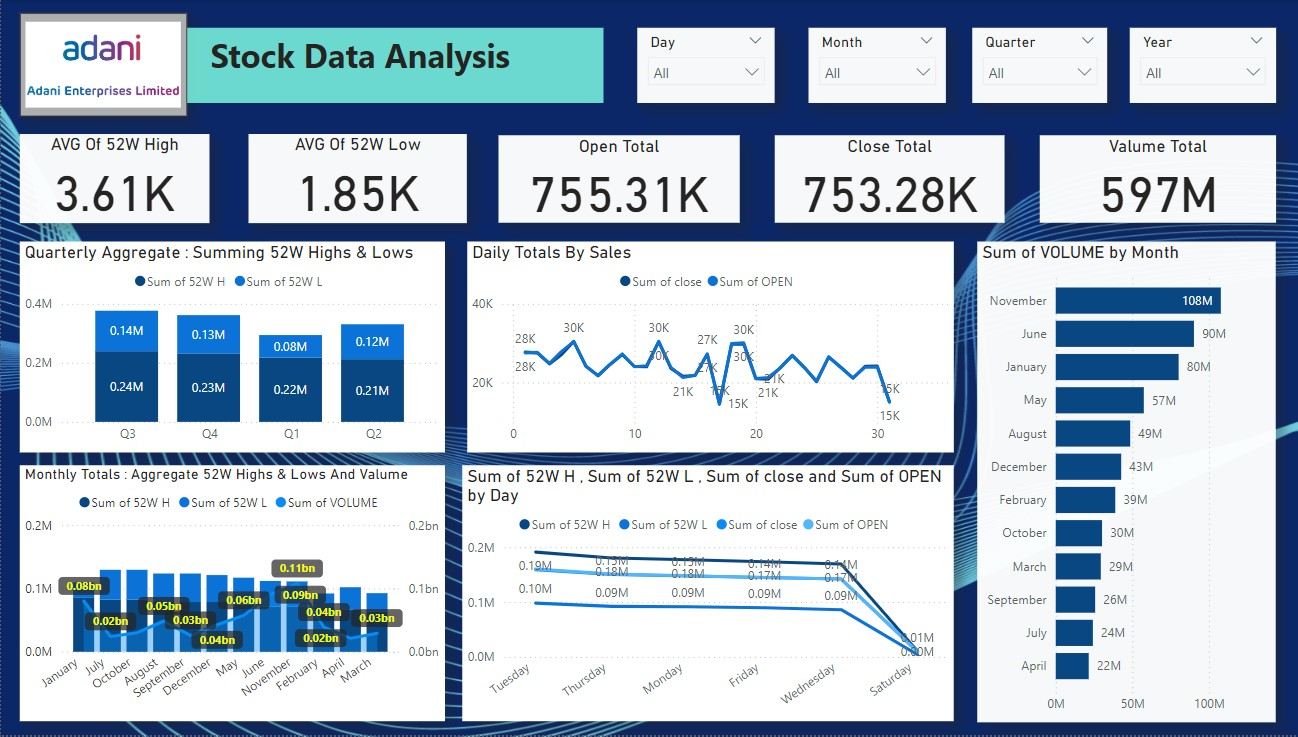

What the dashboard file says about the page in this screenshot:
{"tool":"powerbi","page":{"name":"Page 1","canvas":[1280,720],"ordinal":0},"visuals":[{"type":"slicer","fields":{"Values":["Quote-Equity-ADANIENT-EQ-01-01-2024-to-01-01-2025.Day"]},"box":[622.4,28.1,134.5,73.4],"z":0},{"type":"slicer","fields":{"Values":["Quote-Equity-ADANIENT-EQ-01-01-2024-to-01-01-2025.Year"]},"box":[1104.2,28.1,143.1,73.4],"z":1000},{"type":"slicer","fields":{"Values":["Quote-Equity-ADANIENT-EQ-01-01-2024-to-01-01-2025.Quarter"]},"box":[950.1,28.1,132.1,73.4],"z":2000},{"type":"slicer","fields":{"Values":["Quote-Equity-ADANIENT-EQ-01-01-2024-to-01-01-2025.Month"]},"box":[789.9,28.1,134.5,73.4],"z":3000},{"type":"card","title":"AVG Of 52W High","fields":{"Values":["Avg(Quote-Equity-ADANIENT-EQ-01-01-2024-to-01-01-2025.52W H )"]},"box":[18.3,132.1,185.9,86.8],"z":4000},{"type":"card","title":"Close Total","fields":{"Values":["Sum(Quote-Equity-ADANIENT-EQ-01-01-2024-to-01-01-2025.close)"]},"box":[756.9,133.3,225,85.6],"z":5000},{"type":"card","title":"AVG Of 52W Low","fields":{"Values":["Avg(Quote-Equity-ADANIENT-EQ-01-01-2024-to-01-01-2025.52W L )"]},"box":[242.1,132.1,214,86.8],"z":6000},{"type":"card","title":"Valume Total","fields":{"Values":["Sum(Quote-Equity-ADANIENT-EQ-01-01-2024-to-01-01-2025.VOLUME )"]},"box":[1016.2,133.3,231.1,85.6],"z":7000},{"type":"card","title":"Open Total","fields":{"Values":["Sum(Quote-Equity-ADANIENT-EQ-01-01-2024-to-01-01-2025.OPEN )"]},"box":[486.7,133.3,236,85.6],"z":8000},{"type":"columnChart","title":" Quarterly Aggregate  : Summing 52W Highs & Lows","fields":{"Y":["Sum(Quote-Equity-ADANIENT-EQ-01-01-2024-to-01-01-2025.52W H )","Sum(Quote-Equity-ADANIENT-EQ-01-01-2024-to-01-01-2025.52W L )"],"Category":["Quote-Equity-ADANIENT-EQ-01-01-2024-to-01-01-2025.Quarter"]},"box":[18.3,237.2,415.8,206.7],"z":9000},{"type":"lineStackedColumnComboChart","title":"Monthly Totals :  Aggregate 52W Highs & Lows And Valume","fields":{"Y":["Sum(Quote-Equity-ADANIENT-EQ-01-01-2024-to-01-01-2025.52W H )","Sum(Quote-Equity-ADANIENT-EQ-01-01-2024-to-01-01-2025.52W L )"],"Category":["Quote-Equity-ADANIENT-EQ-01-01-2024-to-01-01-2025.Month"],"Y2":["Sum(Quote-Equity-ADANIENT-EQ-01-01-2024-to-01-01-2025.VOLUME )"]},"box":[18.3,456.1,415.8,250.7],"z":10000},{"type":"lineChart","title":"Daily Totals By Sales","fields":{"Category":["Quote-Equity-ADANIENT-EQ-01-01-2024-to-01-01-2025.Date .Variation.Date Hierarchy.Day"],"Y":["Sum(Quote-Equity-ADANIENT-EQ-01-01-2024-to-01-01-2025.close)","Sum(Quote-Equity-ADANIENT-EQ-01-01-2024-to-01-01-2025.OPEN )"]},"box":[456.1,237.2,475.7,206.7],"z":11000},{"type":"lineChart","fields":{"Y":["Sum(Quote-Equity-ADANIENT-EQ-01-01-2024-to-01-01-2025.52W H )","Sum(Quote-Equity-ADANIENT-EQ-01-01-2024-to-01-01-2025.52W L )","Sum(Quote-Equity-ADANIENT-EQ-01-01-2024-to-01-01-2025.close)","Sum(Quote-Equity-ADANIENT-EQ-01-01-2024-to-01-01-2025.OPEN )"],"Category":["Quote-Equity-ADANIENT-EQ-01-01-2024-to-01-01-2025.Day"]},"box":[451.2,456.1,480.6,250.7],"z":12000},{"type":"barChart","fields":{"Category":["Quote-Equity-ADANIENT-EQ-01-01-2024-to-01-01-2025.Month"],"Y":["Sum(Quote-Equity-ADANIENT-EQ-01-01-2024-to-01-01-2025.VOLUME )"]},"box":[955,237.2,292.3,470.8],"z":13000},{"type":"image","box":[18.3,13.5,163.9,101.5],"z":14000},{"type":"textbox","box":[182.2,28.1,407.2,73.4],"z":15000}]}

Visuals, with their boxes in screenshot pixels (x1, y1, x2, y2), scaled from the page's 1280x720 canvas onto the 1298x737 screenshot:
slicer - Quote-Equity-ADANIENT-EQ-01-01-2024-to-01-01-2025.Day: locate(631, 29, 768, 104)
slicer - Quote-Equity-ADANIENT-EQ-01-01-2024-to-01-01-2025.Year: locate(1120, 29, 1265, 104)
slicer - Quote-Equity-ADANIENT-EQ-01-01-2024-to-01-01-2025.Quarter: locate(963, 29, 1097, 104)
slicer - Quote-Equity-ADANIENT-EQ-01-01-2024-to-01-01-2025.Month: locate(801, 29, 937, 104)
"AVG Of 52W High" card: locate(19, 135, 207, 224)
"Close Total" card: locate(768, 136, 996, 224)
"AVG Of 52W Low" card: locate(246, 135, 463, 224)
"Valume Total" card: locate(1030, 136, 1265, 224)
"Open Total" card: locate(494, 136, 733, 224)
" Quarterly Aggregate  : Summing 52W Highs & Lows" columnChart: locate(19, 243, 440, 454)
"Monthly Totals :  Aggregate 52W Highs & Lows And Valume" lineStackedColumnComboChart: locate(19, 467, 440, 723)
"Daily Totals By Sales" lineChart: locate(463, 243, 945, 454)
lineChart - Sum(Quote-Equity-ADANIENT-EQ-01-01-2024-to-01-01-2025.52W H ) x Sum(Quote-Equity-ADANIENT-EQ-01-01-2024-to-01-01-2025.52W L ): locate(458, 467, 945, 723)
barChart - Quote-Equity-ADANIENT-EQ-01-01-2024-to-01-01-2025.Month x Sum(Quote-Equity-ADANIENT-EQ-01-01-2024-to-01-01-2025.VOLUME ): locate(968, 243, 1265, 725)
image: locate(19, 14, 185, 118)
textbox: locate(185, 29, 598, 104)
